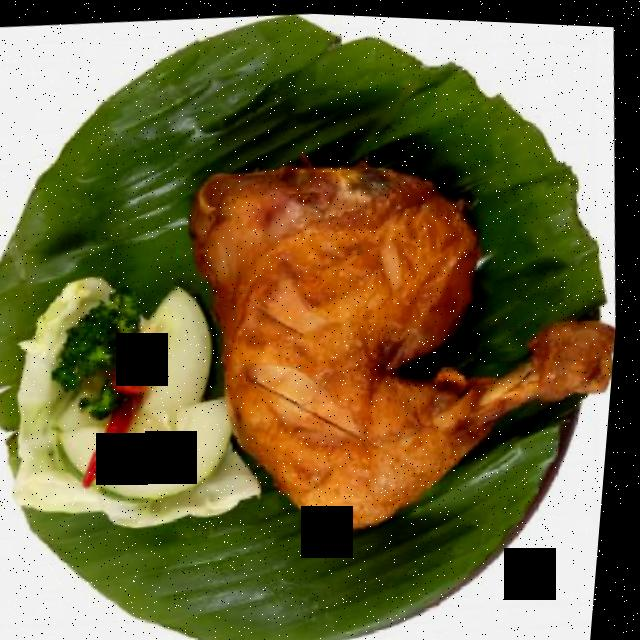Frango: (177, 55, 593, 558)
